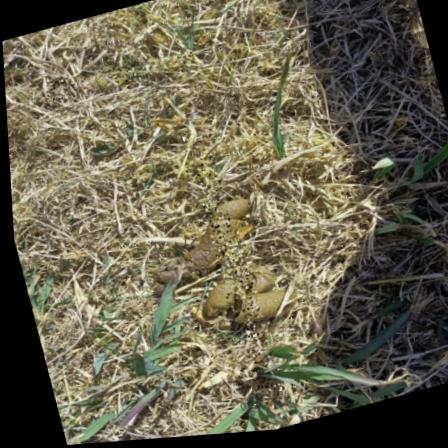dog-poop: (133, 192, 264, 283), (189, 258, 294, 338)
